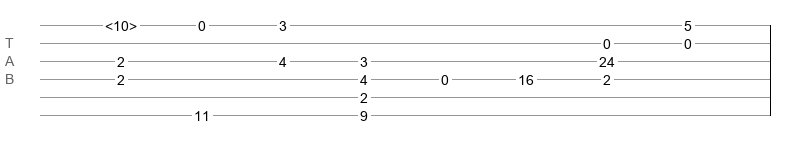0: (198, 18, 206, 28), (441, 72, 449, 82), (603, 36, 611, 46), (684, 36, 692, 46)
11: (194, 108, 210, 118)
16: (518, 72, 534, 82)
2: (117, 72, 125, 82), (117, 54, 125, 64), (360, 90, 368, 100), (603, 72, 611, 82)
24: (599, 54, 615, 64)
3: (279, 18, 287, 28), (360, 54, 368, 64)
4: (279, 54, 287, 64), (360, 72, 368, 82)
5: (684, 18, 692, 28)
9: (360, 108, 368, 118)
harmonic: (105, 18, 137, 28)
